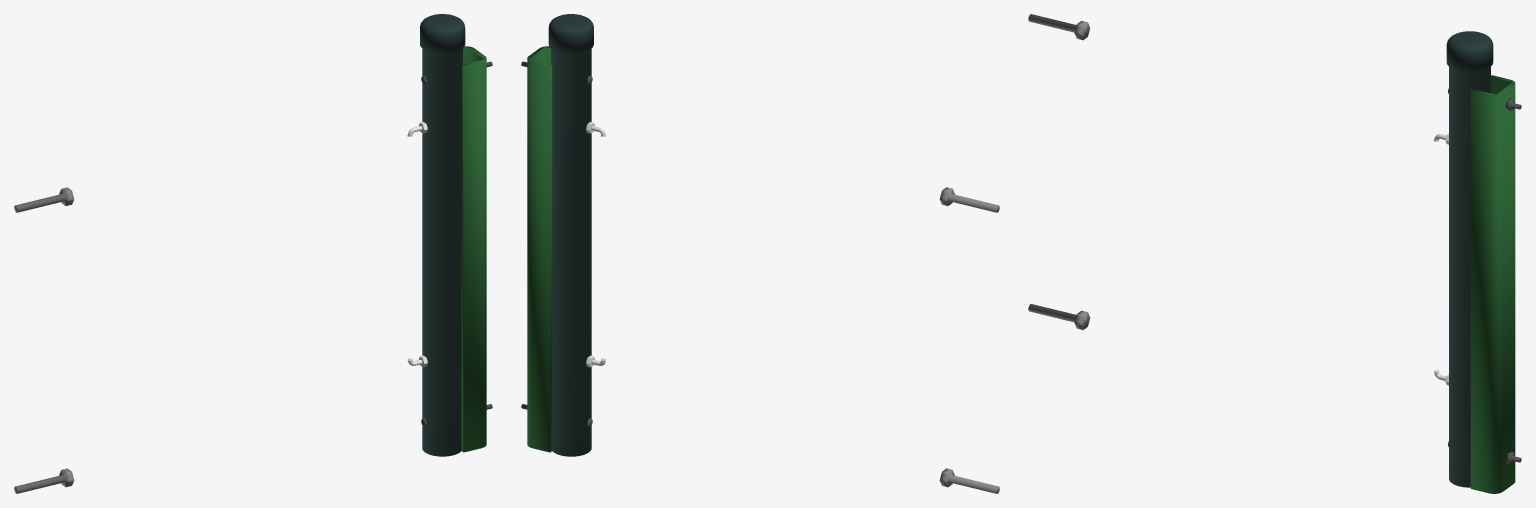
Rendered from portti_tanko_saranoilla.fbx.
The picture shows the model from 3 angles, left to right: view 1: azimuth 30°, elevation 25°; view 2: azimuth 150°, elevation 25°; view 3: azimuth 330°, elevation 25°; orthographic projection. The views are drawn at different scales.
Visible parts, largest first — view 1: tanko, U_tanko, iso_nut_LP.002, iso_nut_LP.003; view 2: tanko, U_tanko, iso_nut_LP.002, iso_nut_LP.003; view 3: U_tanko, tanko, iso_nut_LP.003, iso_nut_LP.002.
Part boxes in pixels (box(x1,y1,x2,y2)): tanko: box(420, 14, 465, 456); U_tanko: box(461, 46, 486, 452); iso_nut_LP.002: box(14, 468, 74, 493); iso_nut_LP.003: box(14, 187, 74, 212); tanko: box(548, 14, 593, 456); U_tanko: box(527, 46, 552, 452); iso_nut_LP.002: box(939, 468, 999, 493); iso_nut_LP.003: box(939, 187, 999, 212); U_tanko: box(1470, 75, 1515, 493); tanko: box(1446, 31, 1493, 487); iso_nut_LP.003: box(1028, 14, 1089, 40); iso_nut_LP.002: box(1028, 304, 1090, 329).
Size of the model in its own units: 160 by 138 by 13.25.
